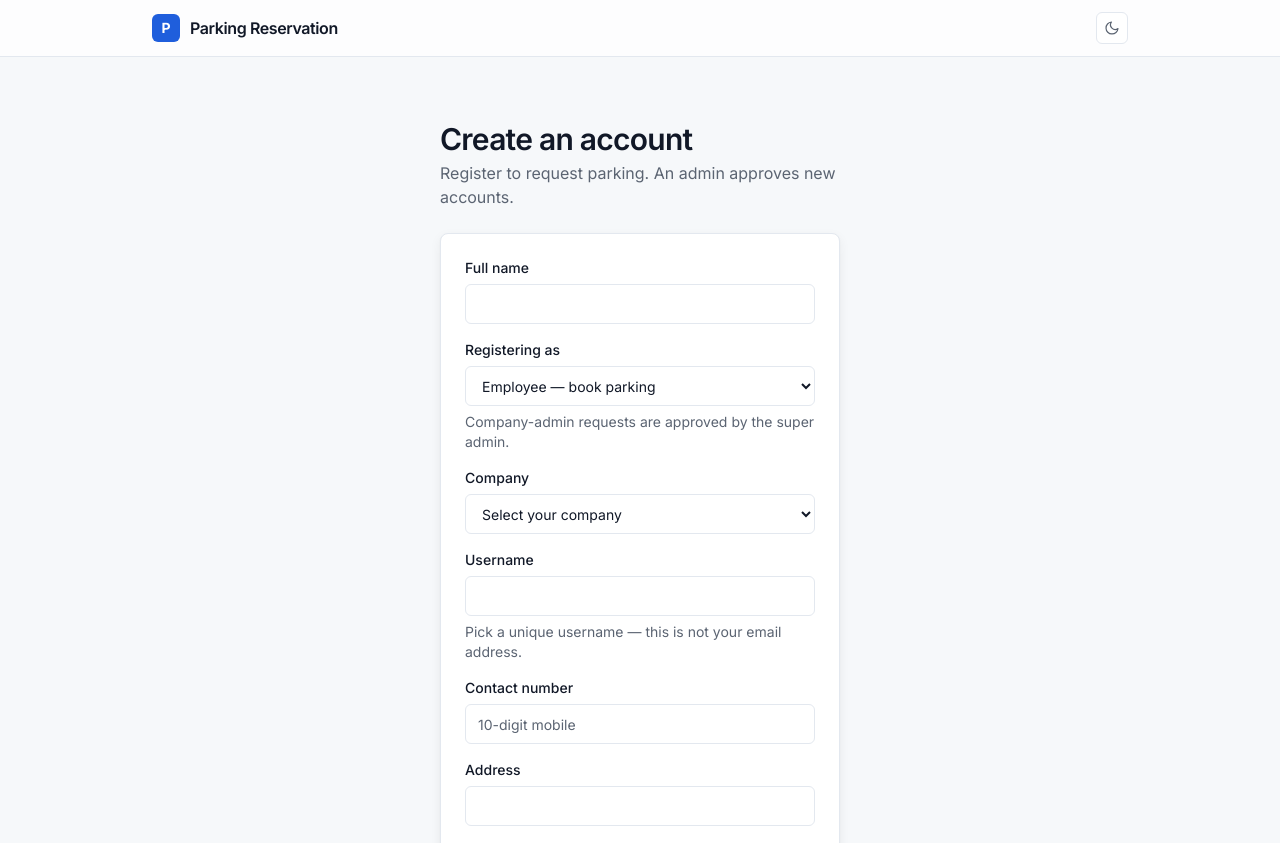
RegisterPage › security registration › hides the fields a guard does not supply
Select "Security — operate the gate" in the dropdown labelled "Registering as": (640, 386) [465,366,815,406]
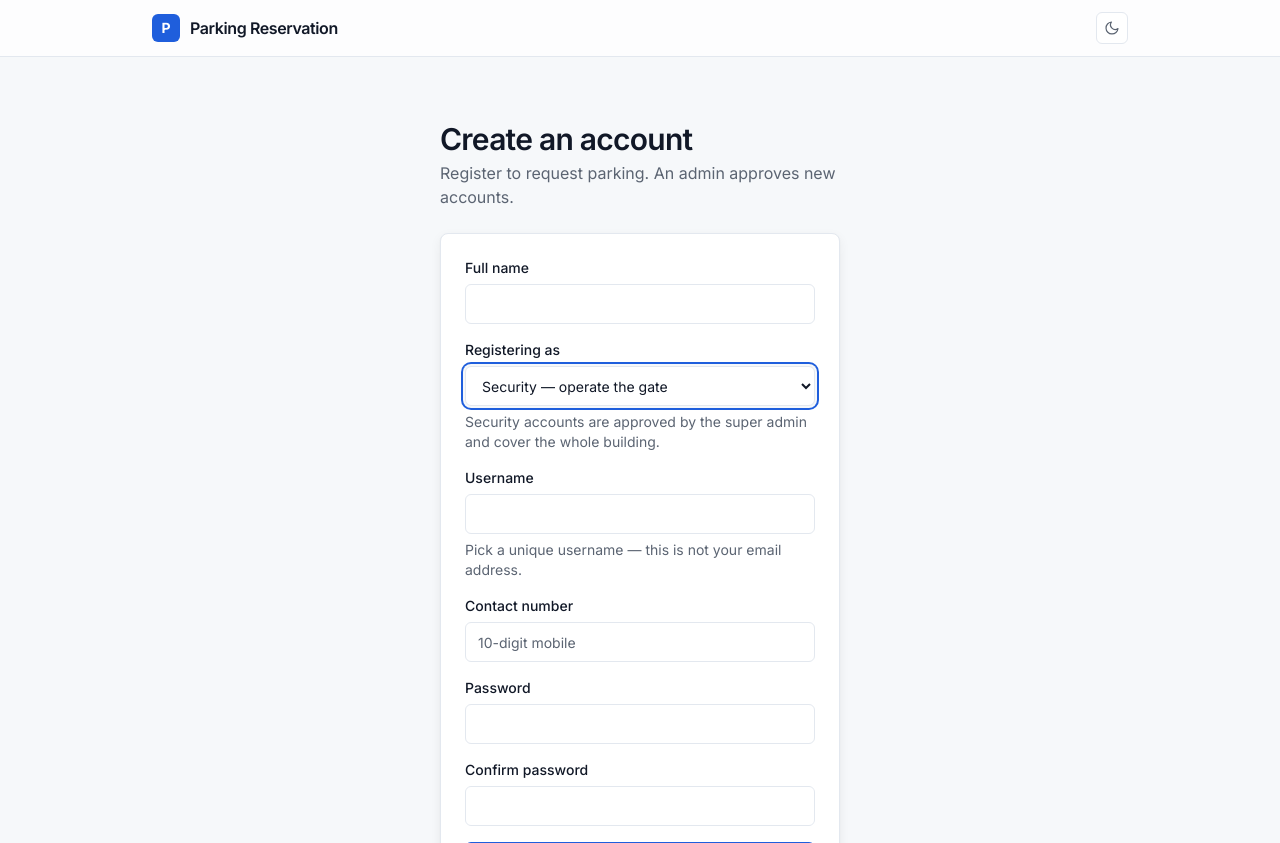
Expected: the text labelled "Company" is gone
